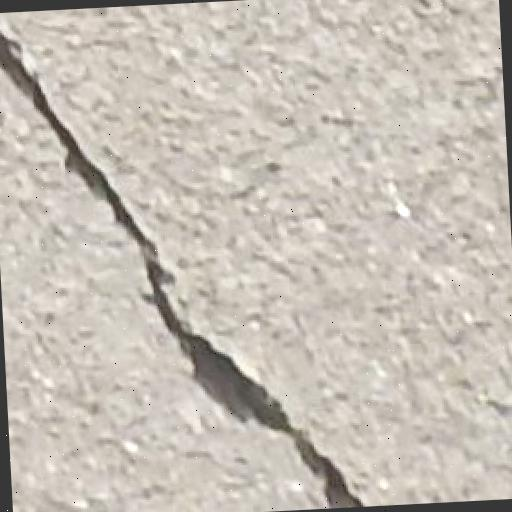spalling: (2, 24, 383, 502)
